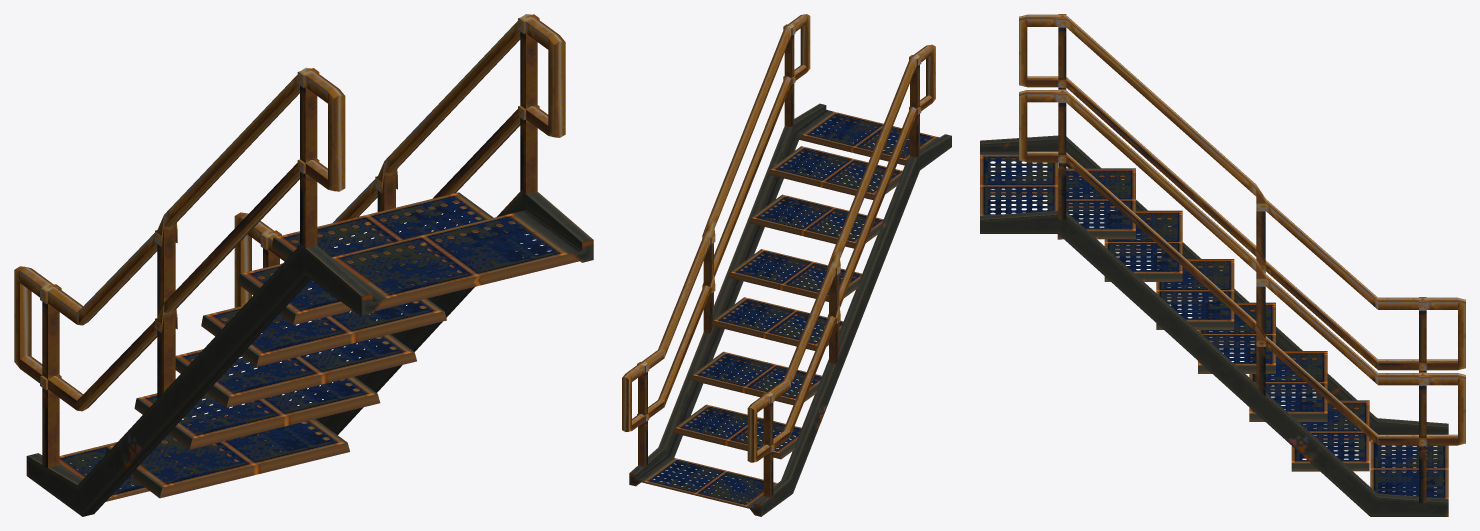
Rendered from catwalk_stairs_two_ended.fbx.
3 renders of one model, left to right at view 1: azimuth 30°, elevation 25°; view 2: azimuth 150°, elevation 25°; view 3: azimuth 270°, elevation 25°, orthographic. The views are drawn at different scales.
Visible parts, largest first — view 1: catwalk_stairs_two_ended; view 2: catwalk_stairs_two_ended; view 3: catwalk_stairs_two_ended.
Part boxes in pixels (x1,y1,x2,y2): catwalk_stairs_two_ended: (14,14,593,516); catwalk_stairs_two_ended: (622,14,951,516); catwalk_stairs_two_ended: (980,14,1465,516).
Size of the model in its own units: 122 by 300 by 311.
